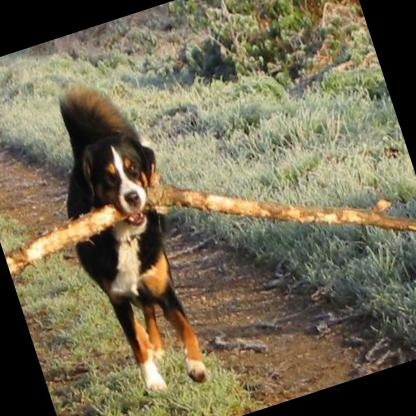Appenzeller: (17, 66, 230, 414)
